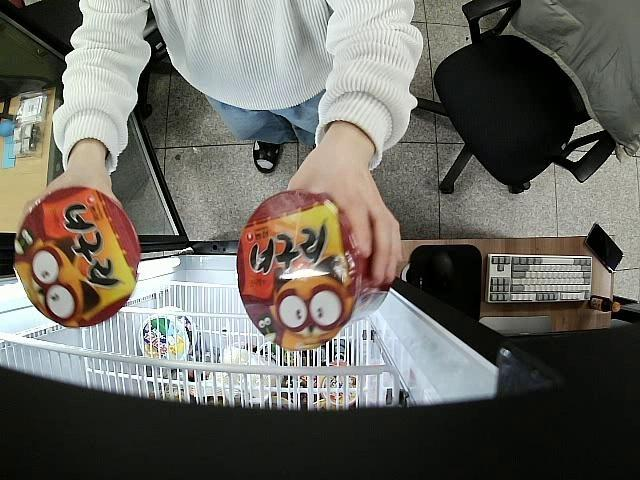05_nuguri_L: (237, 190, 390, 351), (15, 186, 140, 328)
